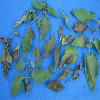Tomato leaf late blight: (83, 50, 99, 93), (60, 45, 79, 71), (21, 25, 35, 58), (31, 68, 56, 83), (39, 16, 52, 41), (43, 33, 56, 58), (52, 43, 63, 69), (33, 43, 43, 69), (72, 34, 89, 49), (58, 67, 76, 81), (47, 7, 60, 18)
